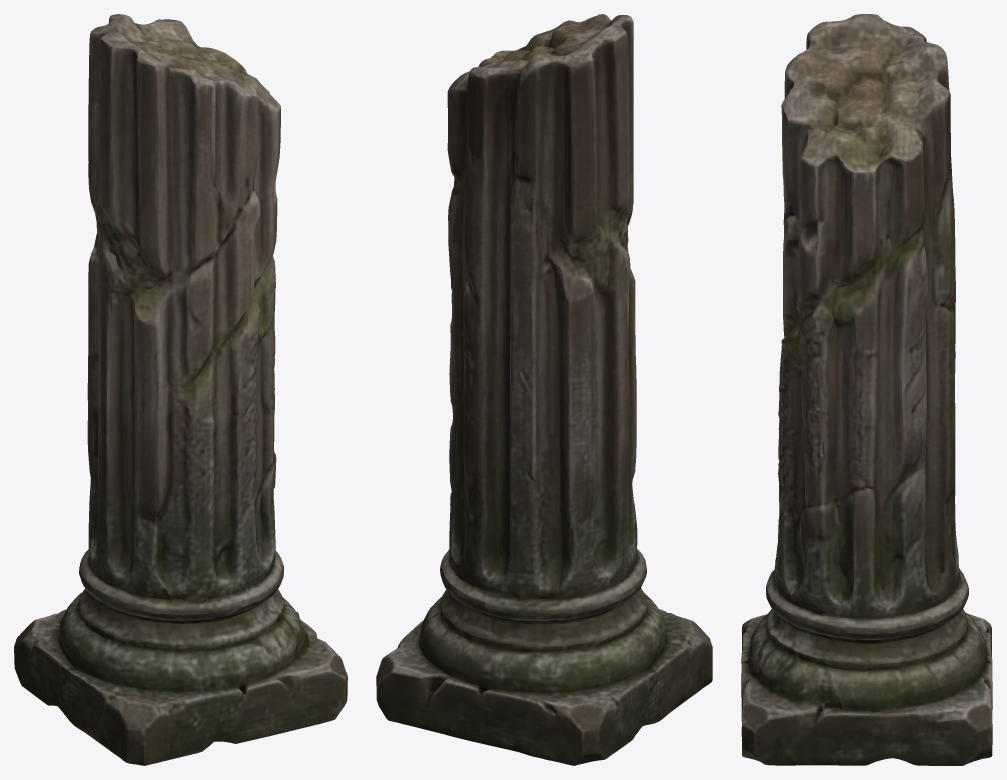
The model's file is env_pillar.glb.
The picture shows the model from 3 angles, left to right: view 1: azimuth 30°, elevation 25°; view 2: azimuth 150°, elevation 25°; view 3: azimuth 270°, elevation 25°; orthographic projection. The views are drawn at different scales.
Visible parts, largest first — view 1: world; view 2: world; view 3: world.
Boxes of the visible parts, box(x1,y1,x2,y2) form: world: box(14, 14, 347, 765); world: box(376, 14, 712, 765); world: box(741, 14, 992, 765).
Bounding box in the file's own units: 0.6296 × 1.8 × 0.6168.
Materials: 1 (1 with a texture image).
